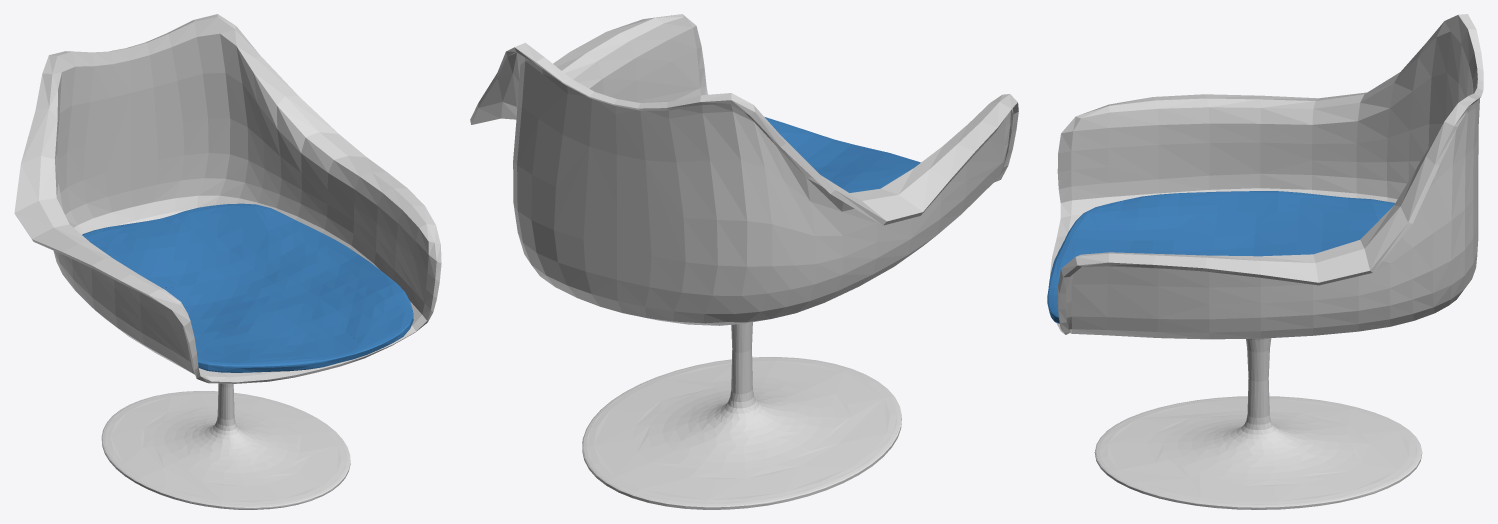
The model's file is sh-bs0-design-chair.glb.
The picture shows the model from 3 angles, left to right: view 1: azimuth 30°, elevation 25°; view 2: azimuth 150°, elevation 25°; view 3: azimuth 270°, elevation 25°; orthographic projection. The views are drawn at different scales.
Visible parts, largest first — view 1: zidle.desig.noh_Circle.003, zidle.design.polstare_Cube.001; view 2: zidle.desig.noh_Circle.003, zidle.design.polstare_Cube.001; view 3: zidle.desig.noh_Circle.003, zidle.design.polstare_Cube.001.
Part boxes in pixels (x1,y1,x2,y2): zidle.desig.noh_Circle.003: [14, 14, 441, 509]; zidle.design.polstare_Cube.001: [82, 203, 413, 372]; zidle.desig.noh_Circle.003: [470, 14, 1018, 509]; zidle.design.polstare_Cube.001: [708, 117, 920, 324]; zidle.desig.noh_Circle.003: [1050, 14, 1483, 509]; zidle.design.polstare_Cube.001: [1047, 191, 1395, 323].
Bounding box in the file's own units: 1 × 0.9998 × 1.
